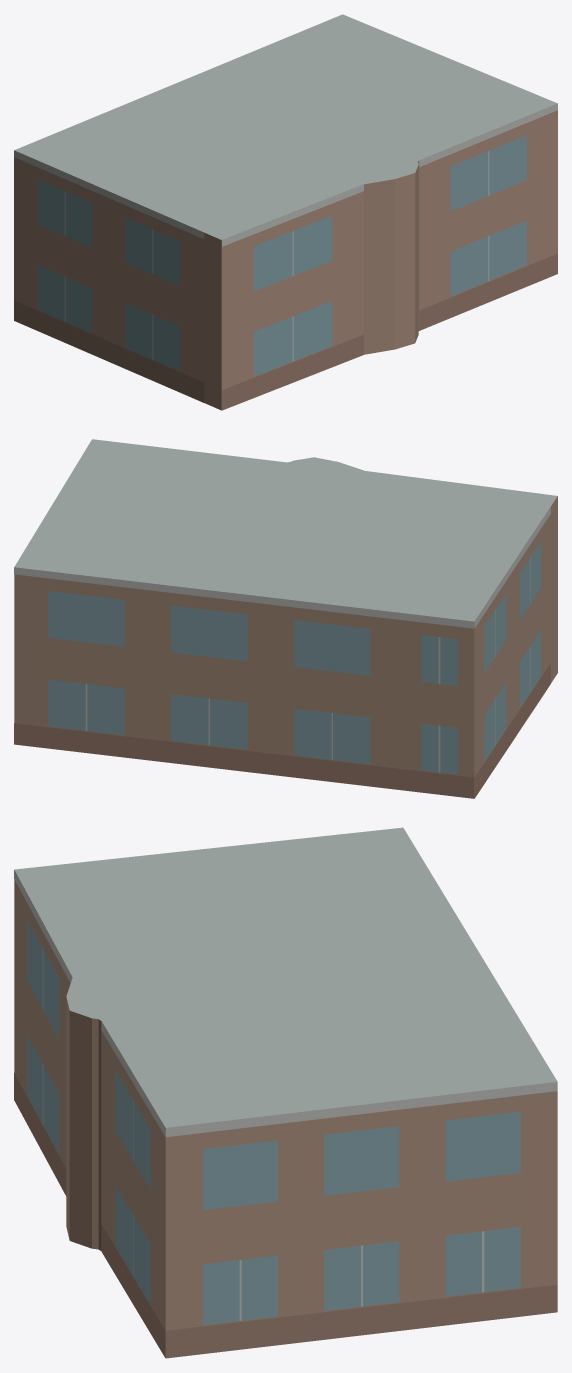
The model's file is survey-upis-32624089.glb.
3 views of the same model, one above another, from view 1: azimuth 30°, elevation 25°; view 2: azimuth 150°, elevation 25°; view 3: azimuth 270°, elevation 25° (orthographic). The views are drawn at different scales.
Parts seen in each view (by area): view 1: survey-upis-32624089.tmp; view 2: survey-upis-32624089.tmp; view 3: survey-upis-32624089.tmp.
Part boxes in pixels (x1,y1,x2,y2): survey-upis-32624089.tmp: (14,14,557,410); survey-upis-32624089.tmp: (14,439,557,798); survey-upis-32624089.tmp: (14,827,557,1358).
Bounding box in the file's own units: 17.08 × 6.1 × 13.06.
